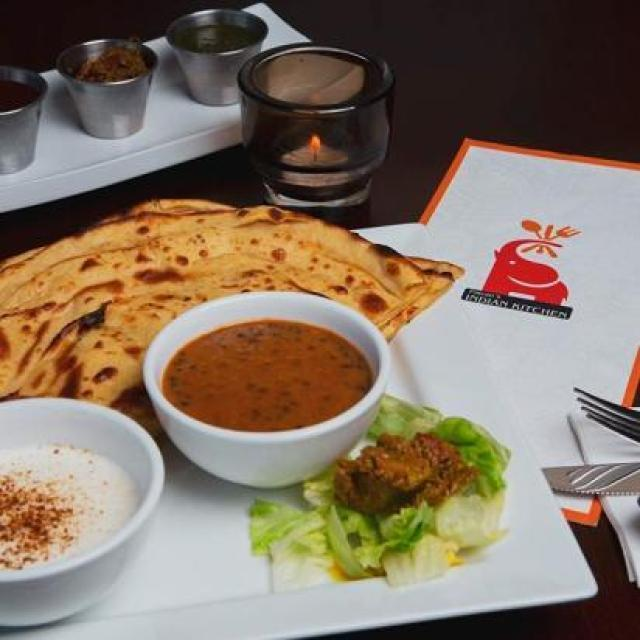dalmakhani: (174, 318, 364, 423)
